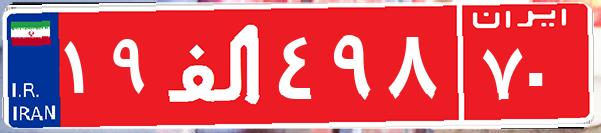0: (525, 38, 570, 115)
1: (57, 26, 110, 107)
4: (273, 28, 330, 110)
7: (475, 38, 525, 113)
8: (385, 28, 445, 110)
9: (330, 28, 385, 110), (110, 28, 158, 105)
الف: (158, 15, 273, 115)
